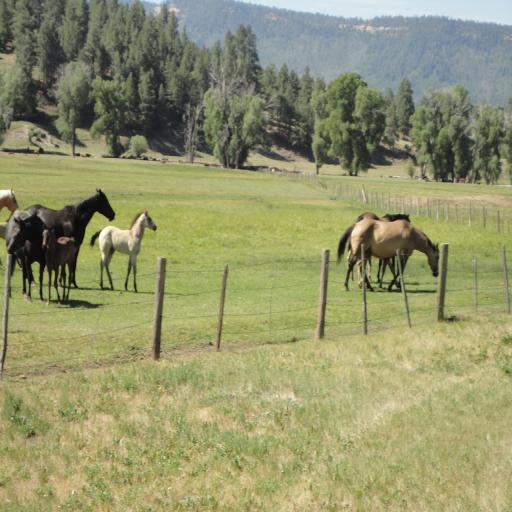horse: (5, 190, 117, 288), (336, 215, 440, 292), (88, 208, 157, 291), (6, 212, 50, 302), (41, 228, 78, 308), (1, 190, 19, 248)
